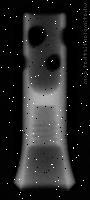Straumann ITI: (4, 11, 77, 193)
